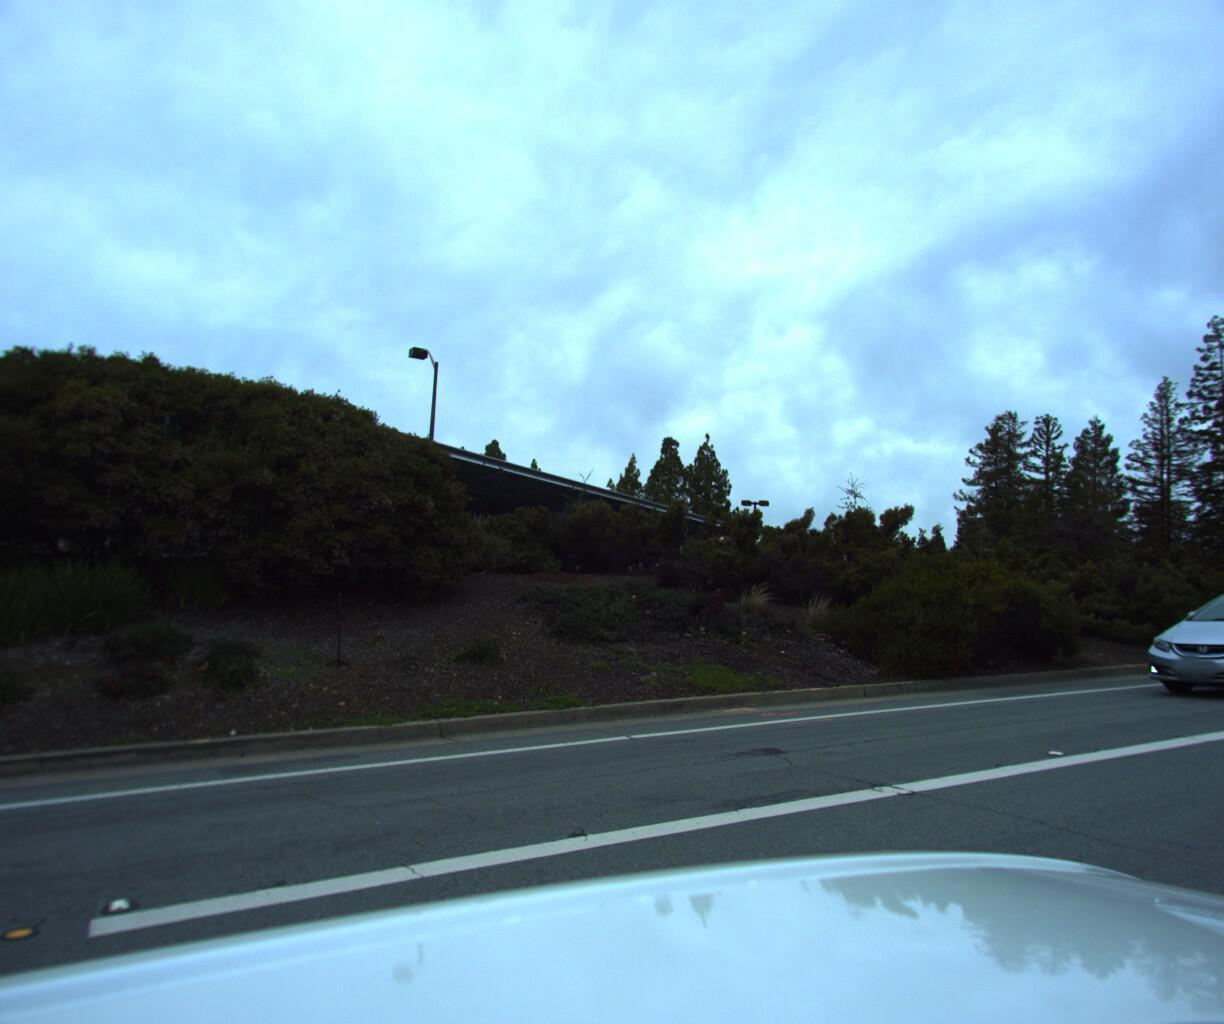car: (1120, 569, 1224, 709)
